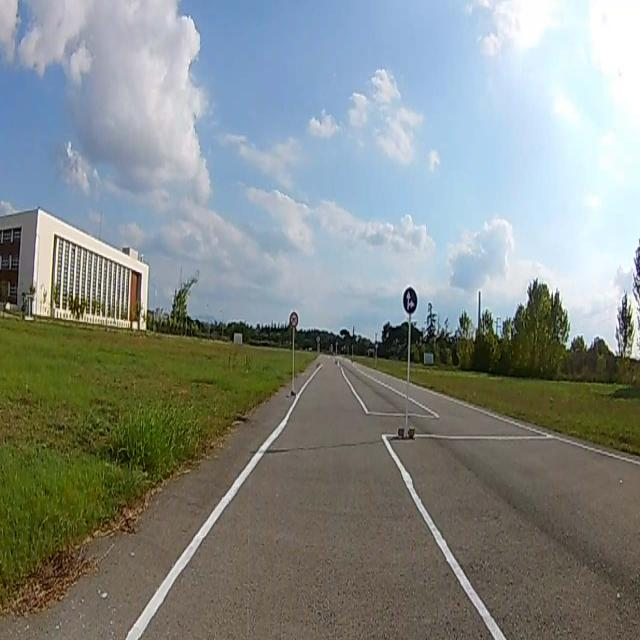ilerisag: (402, 289, 417, 311)
